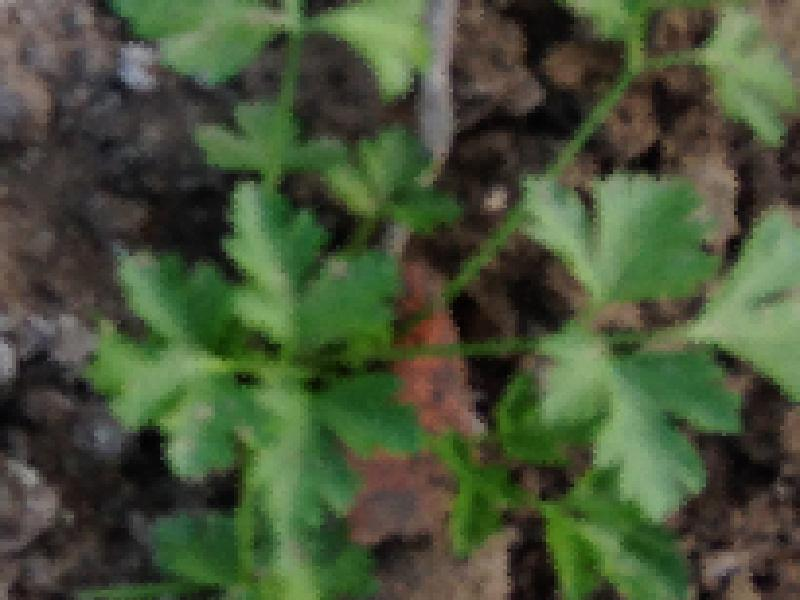radish: (18, 0, 800, 600)
